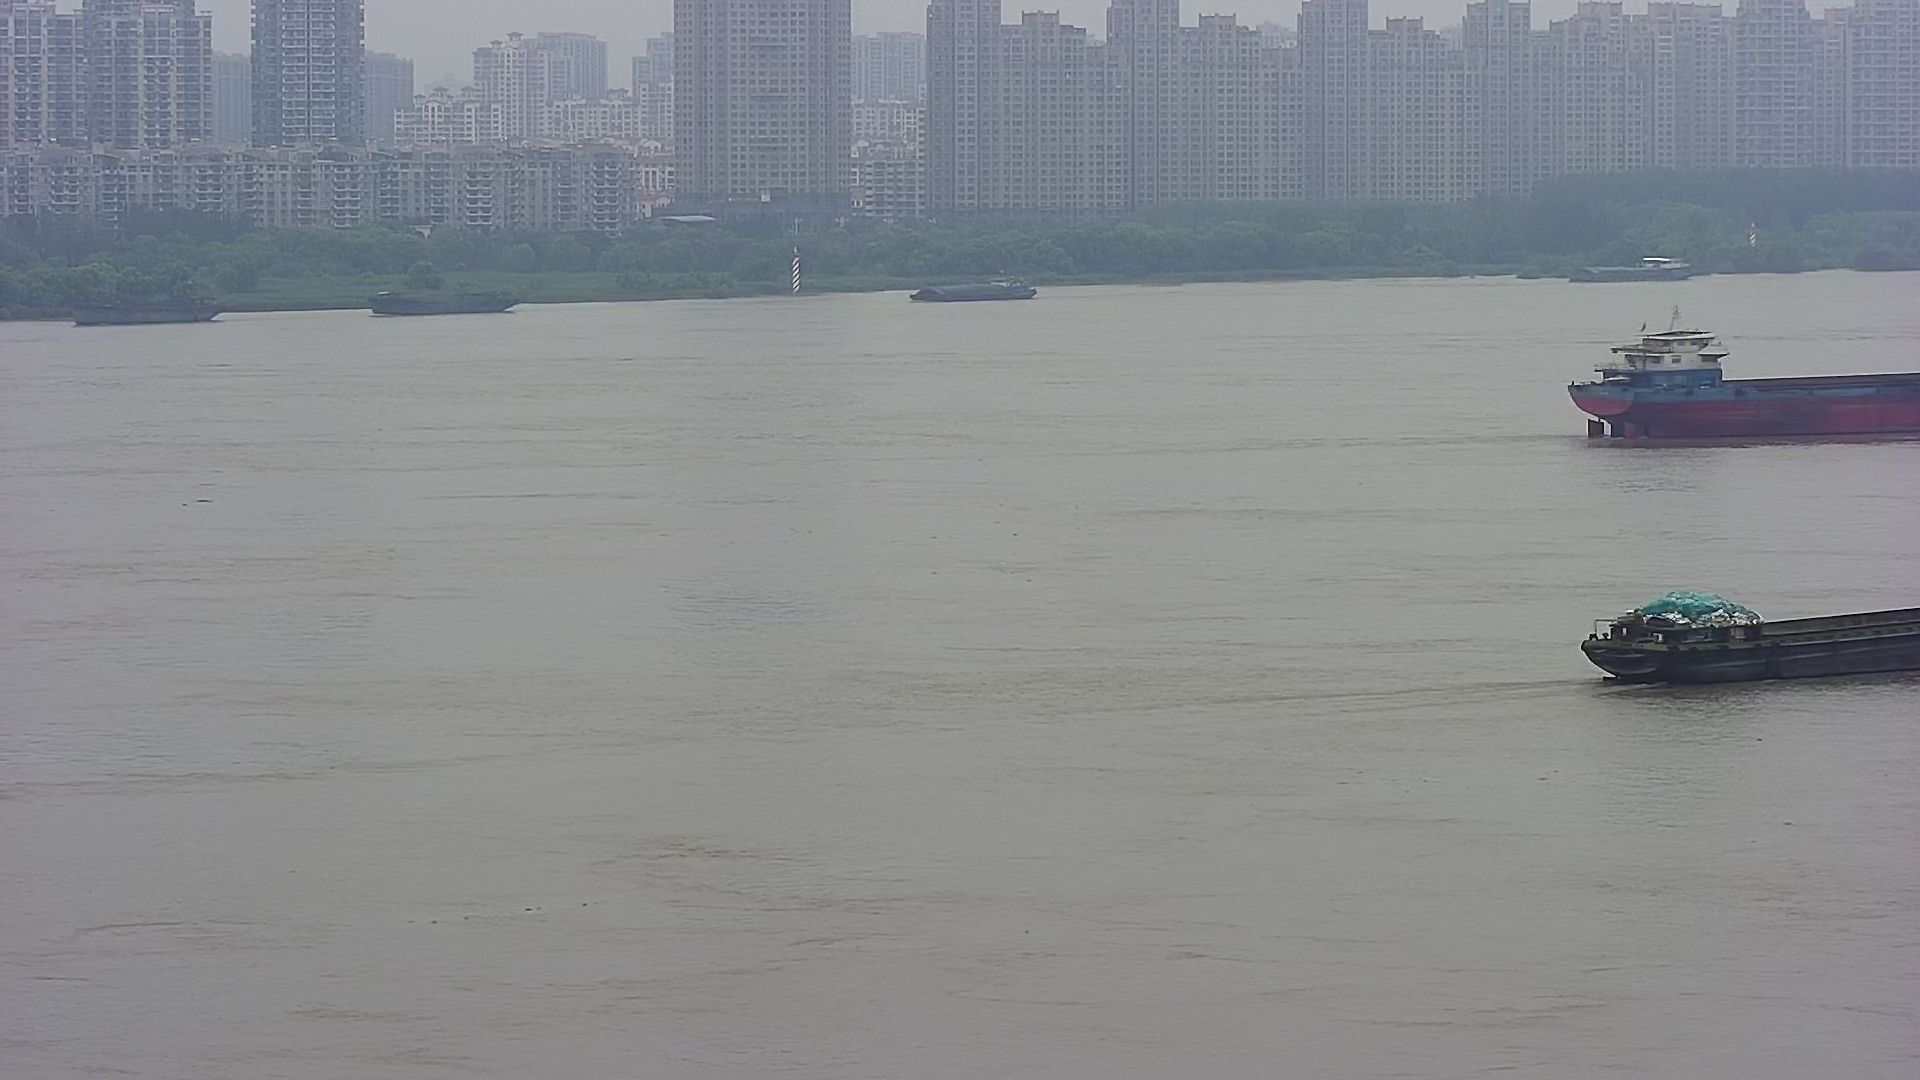ship: (1555, 315, 1920, 459), (1578, 578, 1920, 696), (359, 274, 526, 322), (1567, 248, 1697, 295), (69, 291, 233, 327), (907, 270, 1044, 309)
